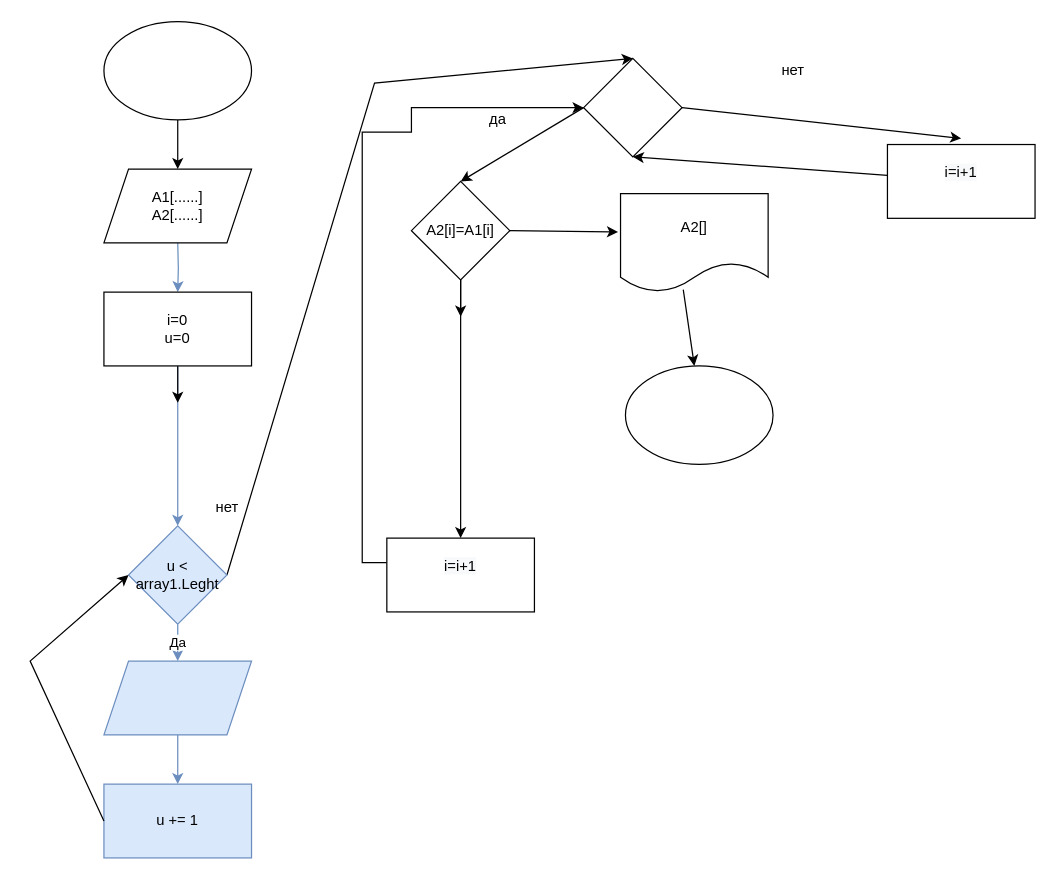
The diagram is 1057 pixels wide and 879 high, and some of its shapes have lost their labels. The shapes that lost their labels are listed below. From the top down, each one's box as (x1, y1, x2, y2) in pixels, then its label:
(103, 20, 252, 120): начало
(582, 57, 682, 157): A1[i].Leght<=3
(624, 365, 773, 464): конец
(103, 660, 252, 735): A[u]
